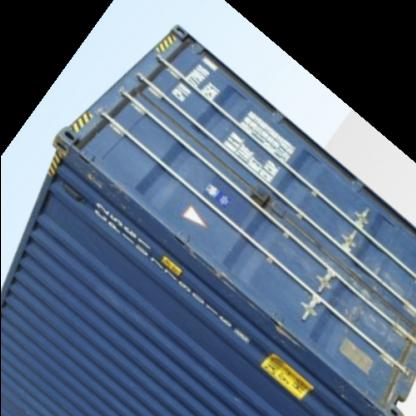Damage: (173, 239, 309, 347), (336, 261, 416, 355), (68, 164, 142, 216)
